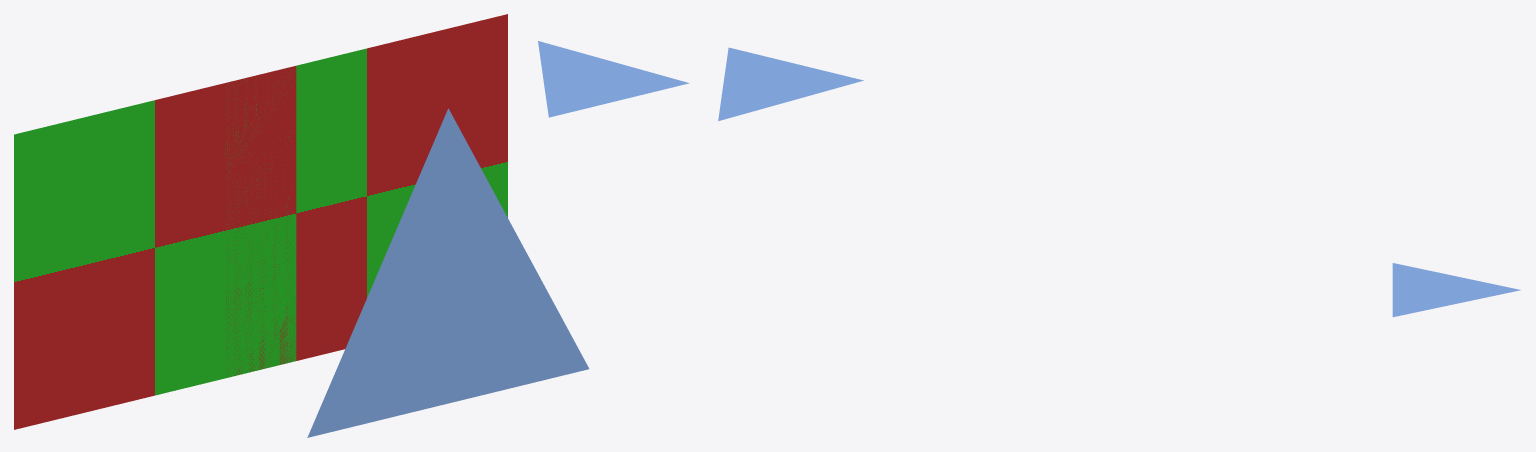
File: fixture.glb
3 renders of one model, left to right at view 1: azimuth 30°, elevation 25°; view 2: azimuth 150°, elevation 25°; view 3: azimuth 270°, elevation 25°, orthographic. The views are drawn at different scales.
Visible parts, largest first — view 1: QuadA, QuadB, TriC, MatrixE; view 2: MatrixE; view 3: MatrixE.
Part boxes in pixels (x1,y1,x2,y2): QuadA: (14,66,296,429); QuadB: (225,14,507,375); TriC: (307,108,589,437); MatrixE: (538,41,689,117); MatrixE: (718,47,863,121); MatrixE: (1392,263,1520,317).
Size of the model in its own units: 4.5 by 2 by 1.5.
Materials: 2 (1 with a texture image).
